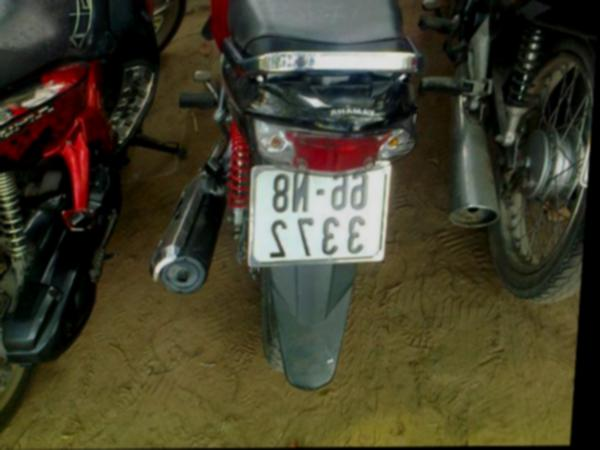License_Plate: (248, 163, 389, 264)
